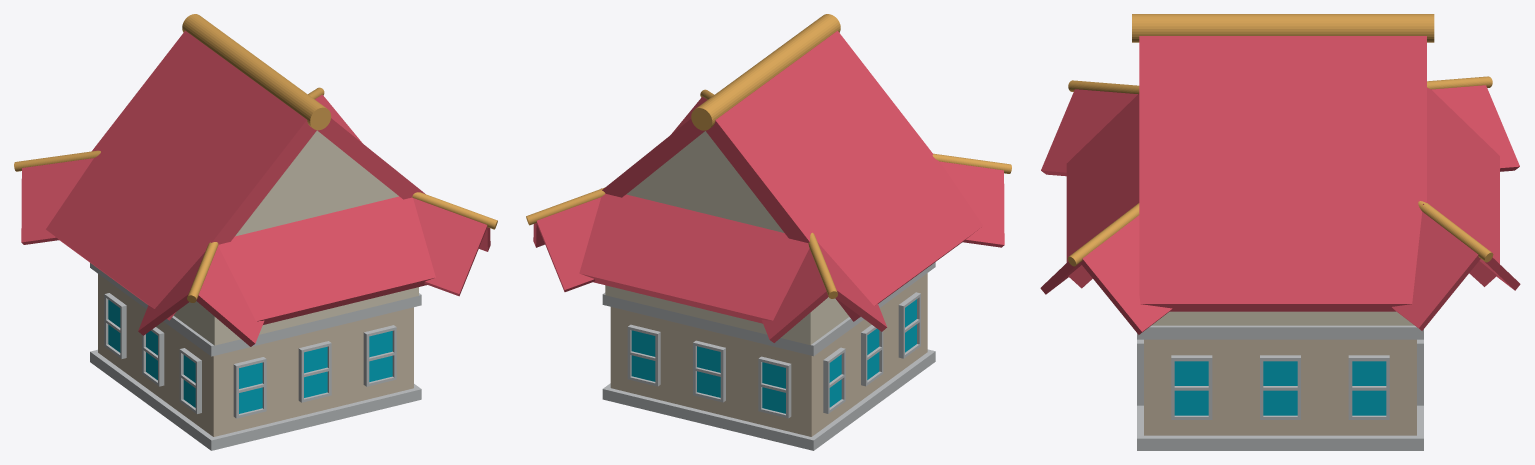
File: house.glb
3 renders of one model, left to right at view 1: azimuth 30°, elevation 25°; view 2: azimuth 150°, elevation 25°; view 3: azimuth 270°, elevation 25°, orthographic. The views are drawn at different scales.
Visible parts, largest first — view 1: Mesh_Mesh_head_geo.001_lambert2SG.001; view 2: Mesh_Mesh_head_geo.001_lambert2SG.001; view 3: Mesh_Mesh_head_geo.001_lambert2SG.001.
Part boxes in pixels (left/top/right/bottom): Mesh_Mesh_head_geo.001_lambert2SG.001: left=14, top=14, right=497, bottom=450; Mesh_Mesh_head_geo.001_lambert2SG.001: left=526, top=14, right=1011, bottom=450; Mesh_Mesh_head_geo.001_lambert2SG.001: left=1040, top=14, right=1520, bottom=450.
Size of the model in its own units: 0.2033 by 0.1755 by 0.2032.
